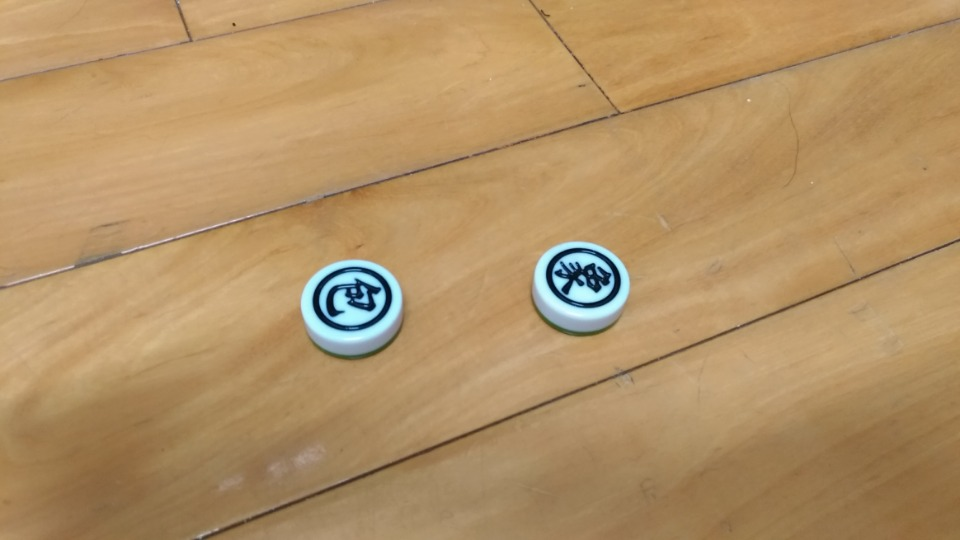b-cannon: (283, 250, 424, 360)
b-elephant: (527, 231, 643, 349)
